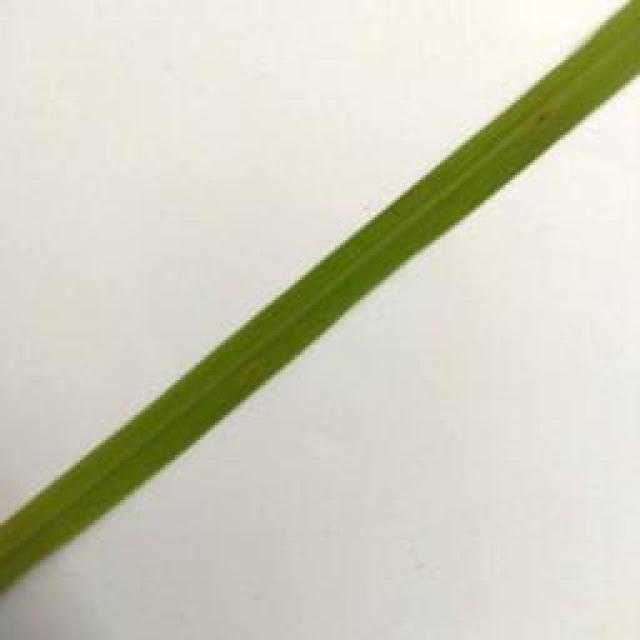Brown_Spot: (525, 101, 557, 132)
